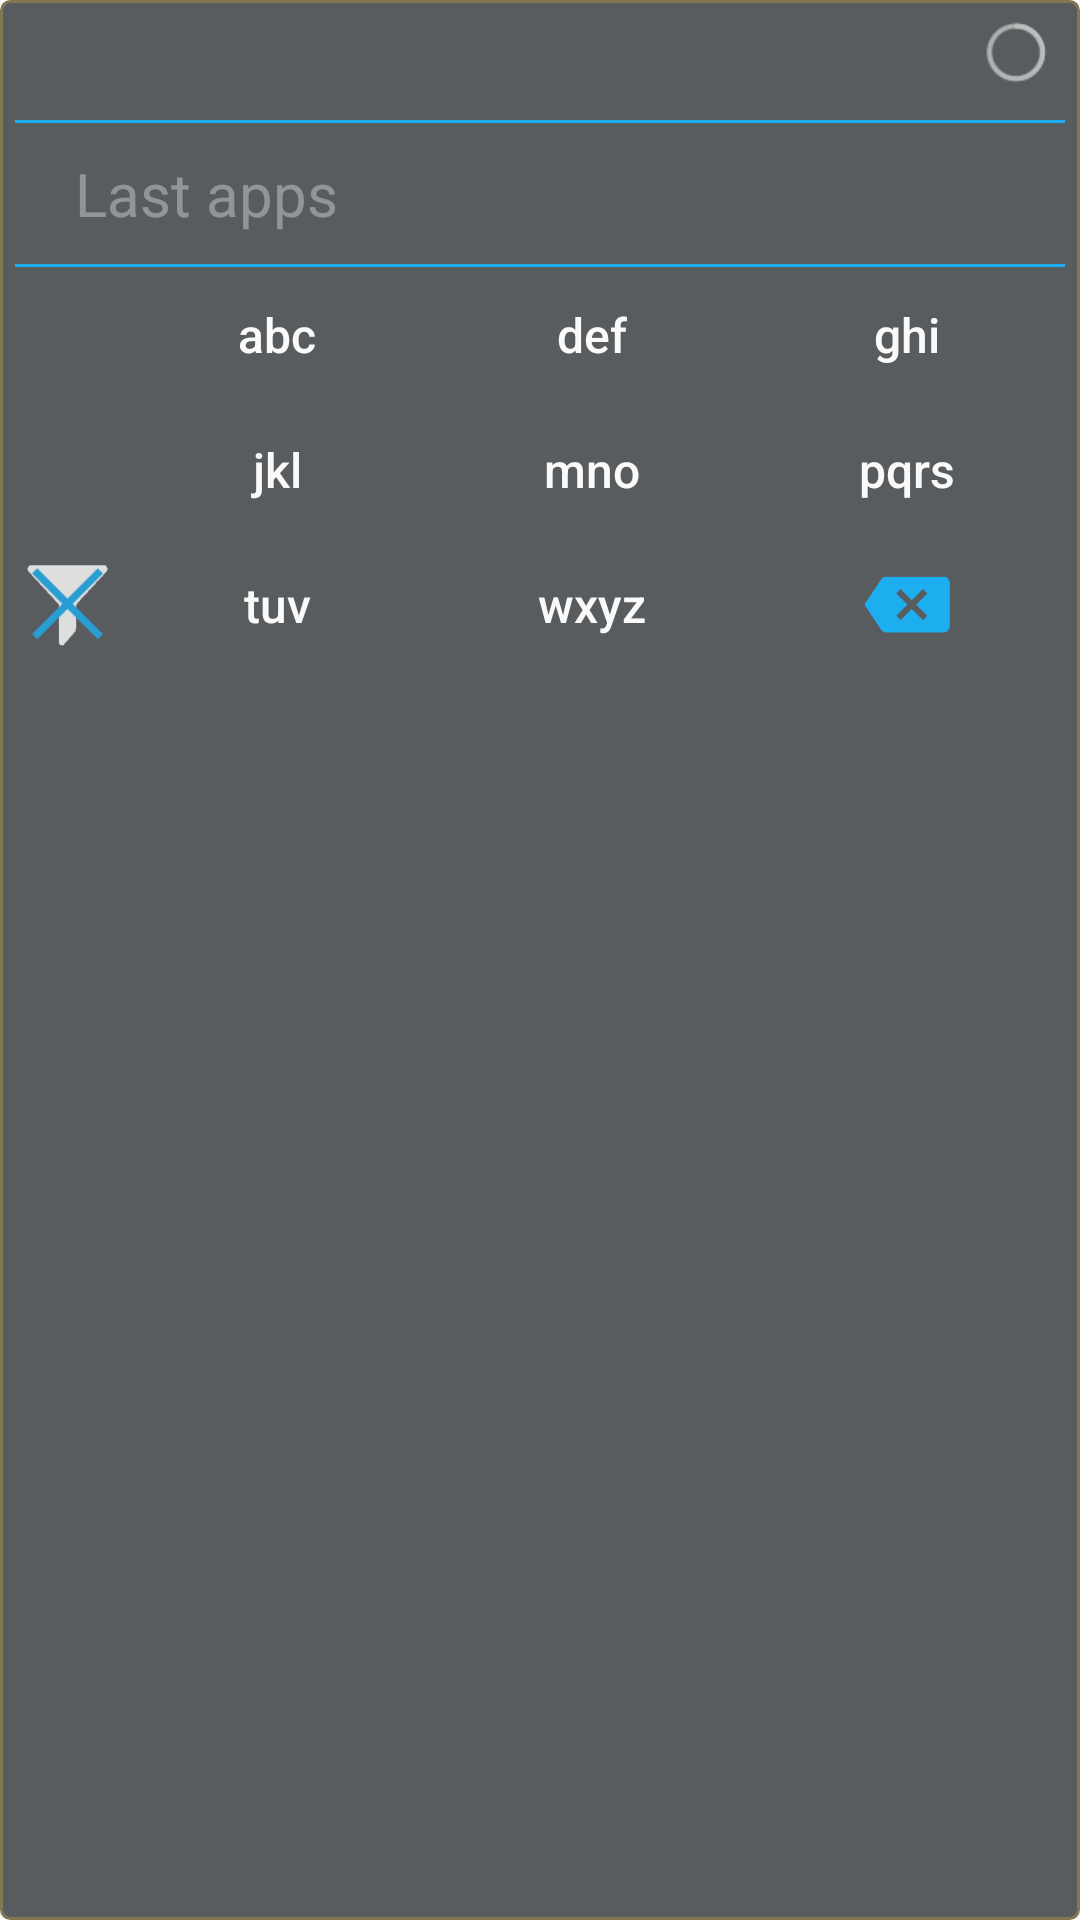

Where to tap for icons on this 1080×1920 app screen, as (x,y):
backspace arrow: (907,605)
filter all theme: (67,605)
